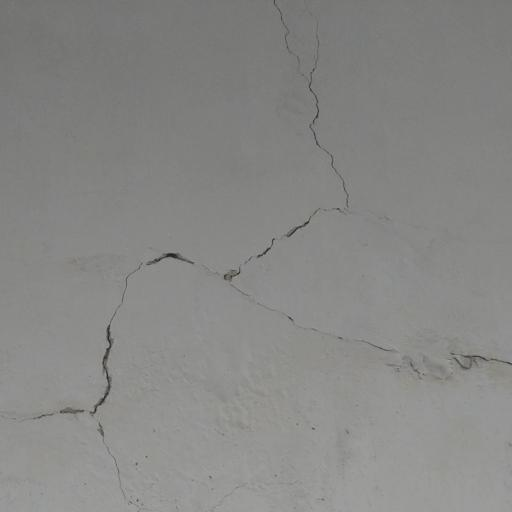major_crack: (43, 0, 502, 500)
